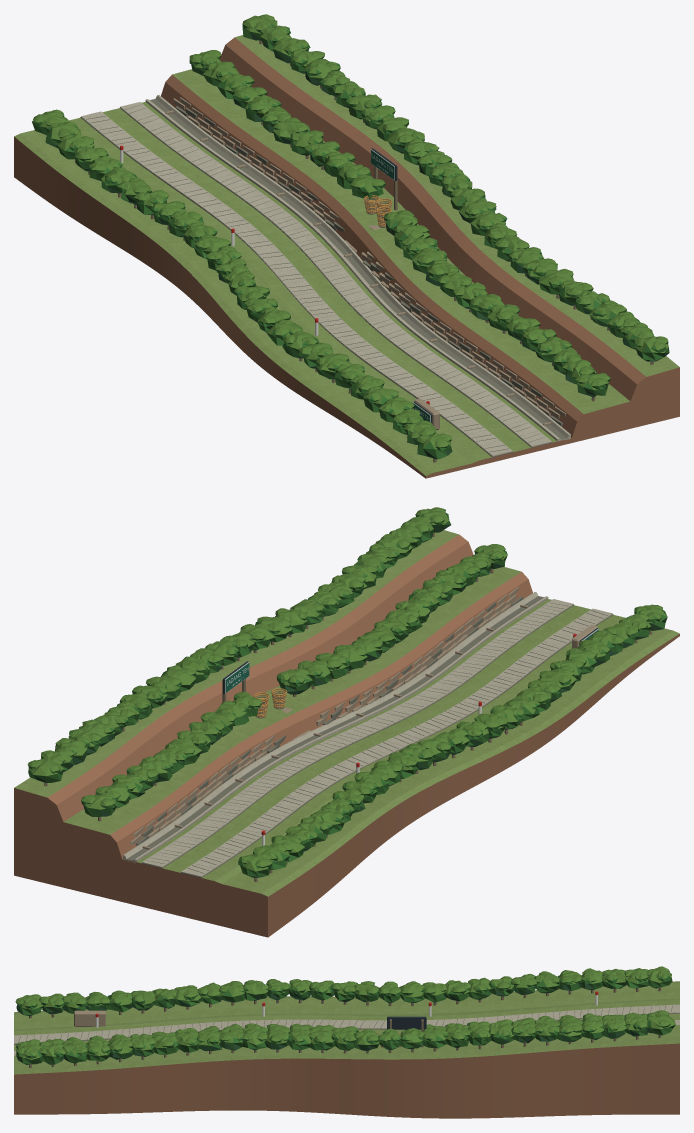
3 renders of one model, top to bottom at view 1: azimuth 30°, elevation 25°; view 2: azimuth 150°, elevation 25°; view 3: azimuth 270°, elevation 25°, orthographic. The views are drawn at different scales.
Parts seen in each view (by area): view 1: Stepped plantation ground, Continuous tea hedges, Clipped picking tables, Cast wheel strips, Uphill interceptor, Fieldstone facing, Diagonal traction bars, Wheel track bedding; view 2: Stepped plantation ground, Continuous tea hedges, Clipped picking tables, Cast wheel strips, Uphill interceptor, Fieldstone facing, Diagonal traction bars, Wheel track bedding; view 3: Stepped plantation ground, Continuous tea hedges, Clipped picking tables, Cast wheel strips, Pruned tea stocks, Estate boundary stone, Lane board, Diagonal traction bars.
Part boxes in pixels (x1,y1,x2,y2): Stepped plantation ground: (14, 35, 679, 478); Continuous tea hedges: (32, 15, 669, 459); Clipped picking tables: (33, 14, 668, 450); Cast wheel strips: (81, 102, 551, 456); Uphill interceptor: (145, 95, 570, 441); Fieldstone facing: (173, 97, 565, 426); Diagonal traction bars: (86, 104, 544, 452); Wheel track bedding: (80, 108, 552, 457); Stepped plantation ground: (14, 530, 679, 937); Continuous tea hedges: (28, 508, 667, 877); Clipped picking tables: (27, 507, 662, 868); Cast wheel strips: (142, 599, 612, 877); Uphill interceptor: (123, 592, 548, 863); Fieldstone facing: (130, 587, 523, 845); Diagonal traction bars: (146, 602, 607, 873); Wheel track bedding: (142, 605, 613, 877); Stepped plantation ground: (14, 981, 679, 1118); Continuous tea hedges: (15, 968, 675, 1064); Clipped picking tables: (15, 966, 670, 1058); Cast wheel strips: (14, 1004, 679, 1055); Pruned tea stocks: (29, 987, 661, 1067); Estate boundary stone: (74, 1010, 105, 1026); Lane board: (387, 1016, 426, 1029); Diagonal traction bars: (18, 1005, 672, 1042).
Bounding box in the file's own units: 12.32 × 4.74 × 32.
Materials: 14 (2 with a texture image).
